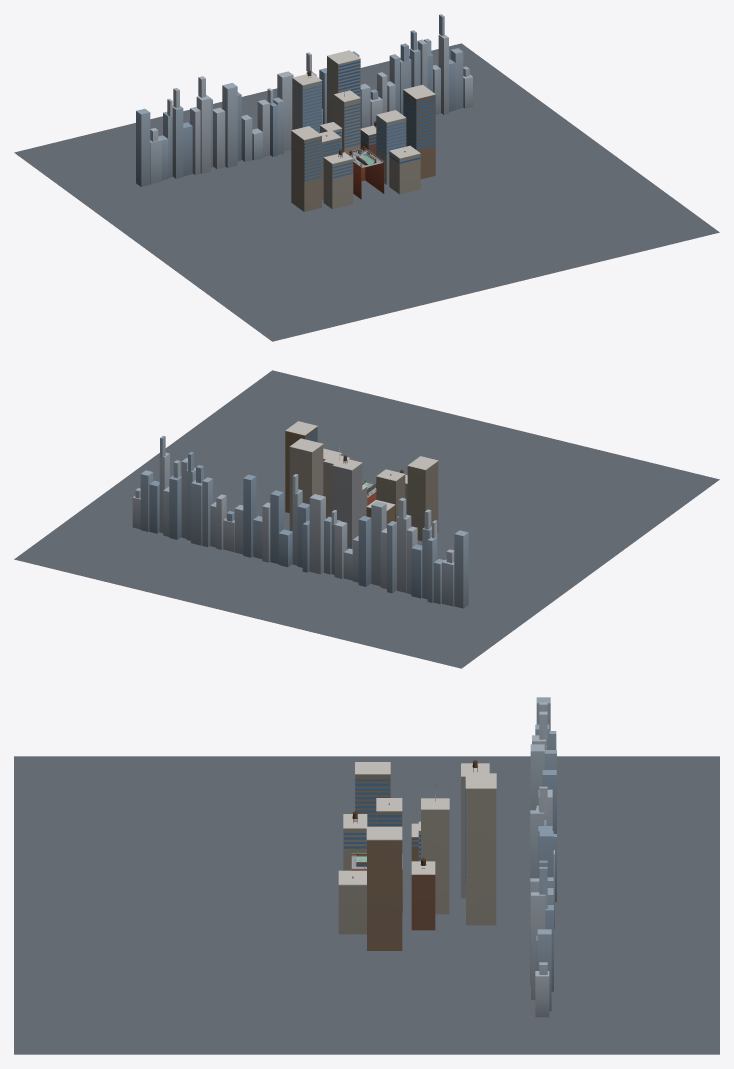
File: venue-rooftop-VykL0JMr.glb
3 renders of one model, top to bottom at view 1: azimuth 30°, elevation 25°; view 2: azimuth 150°, elevation 25°; view 3: azimuth 270°, elevation 25°, orthographic. The views are drawn at different scales.
Parts seen in each view (by area): view 1: arena; view 2: arena; view 3: arena.
Boxes of the visible parts, x1,y1,x2,y2 form: arena: (14,14,719,341); arena: (14,370,719,668); arena: (14,697,719,1054).
Size of the model in its own units: 600 by 129 by 600.
